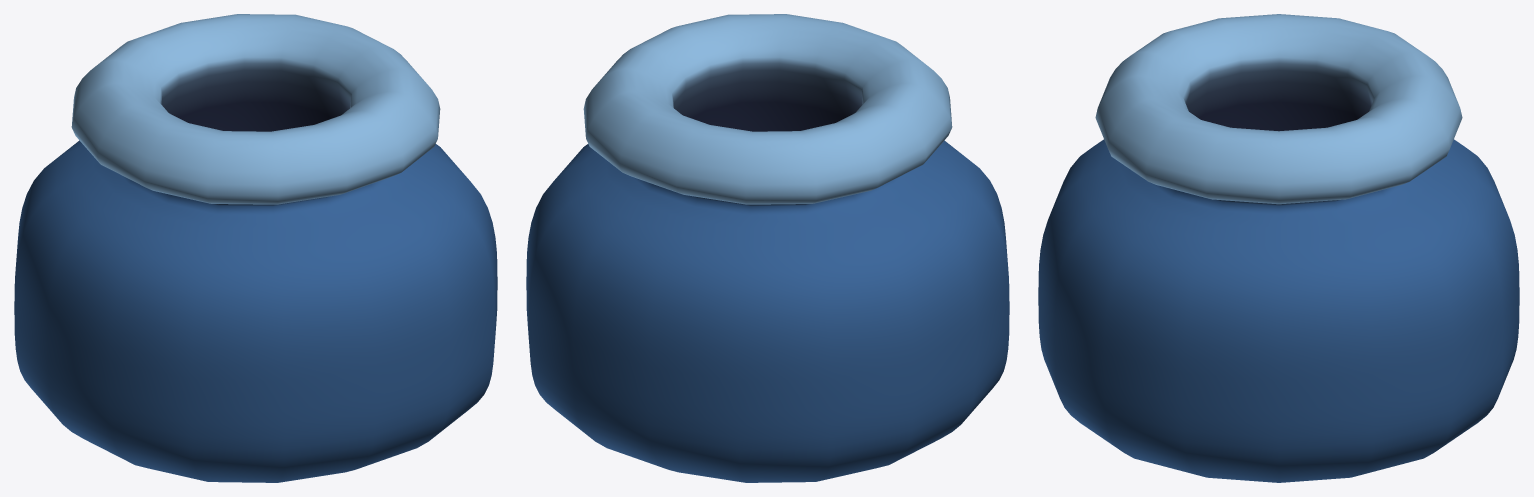
File: pot_test.fbx
The picture shows the model from 3 angles, left to right: view 1: azimuth 30°, elevation 25°; view 2: azimuth 150°, elevation 25°; view 3: azimuth 270°, elevation 25°; orthographic projection.
Visible parts, largest first — view 1: Cube; view 2: Cube; view 3: Cube.
Boxes of the visible parts, x1=… form: Cube: x1=14, y1=14, x2=497, y2=482; Cube: x1=526, y1=14, x2=1009, y2=482; Cube: x1=1038, y1=14, x2=1519, y2=482.
Bounding box in the file's own units: 3.02 × 3.02 × 2.44.
